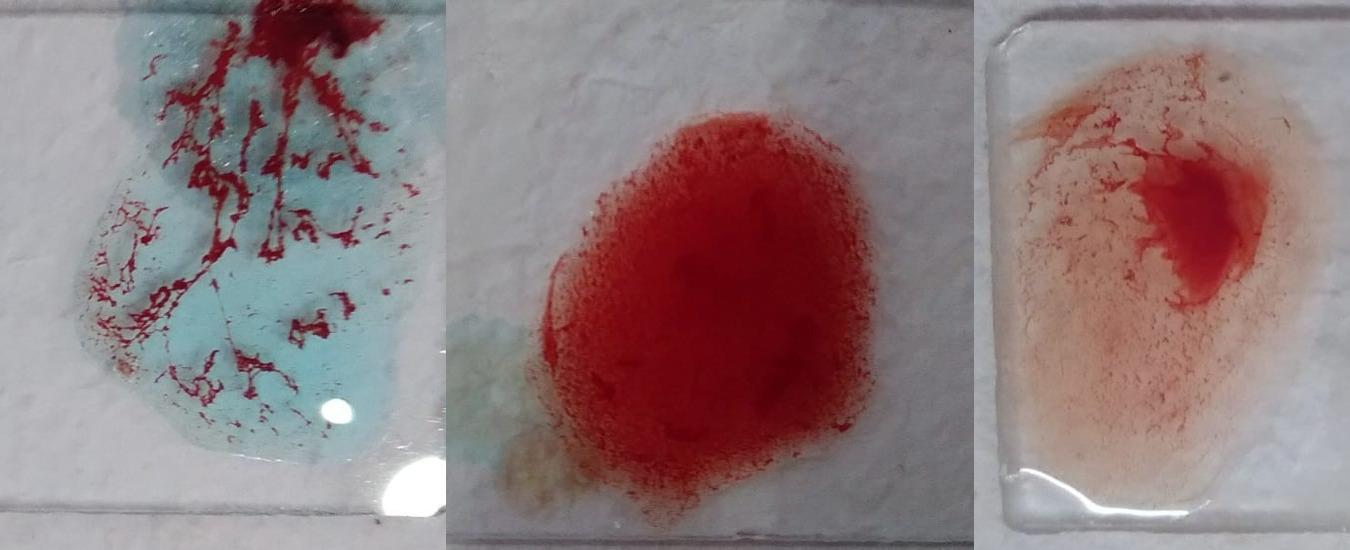A: (97, 2, 434, 472)
B: (545, 122, 879, 517)
D: (1022, 49, 1319, 506)
